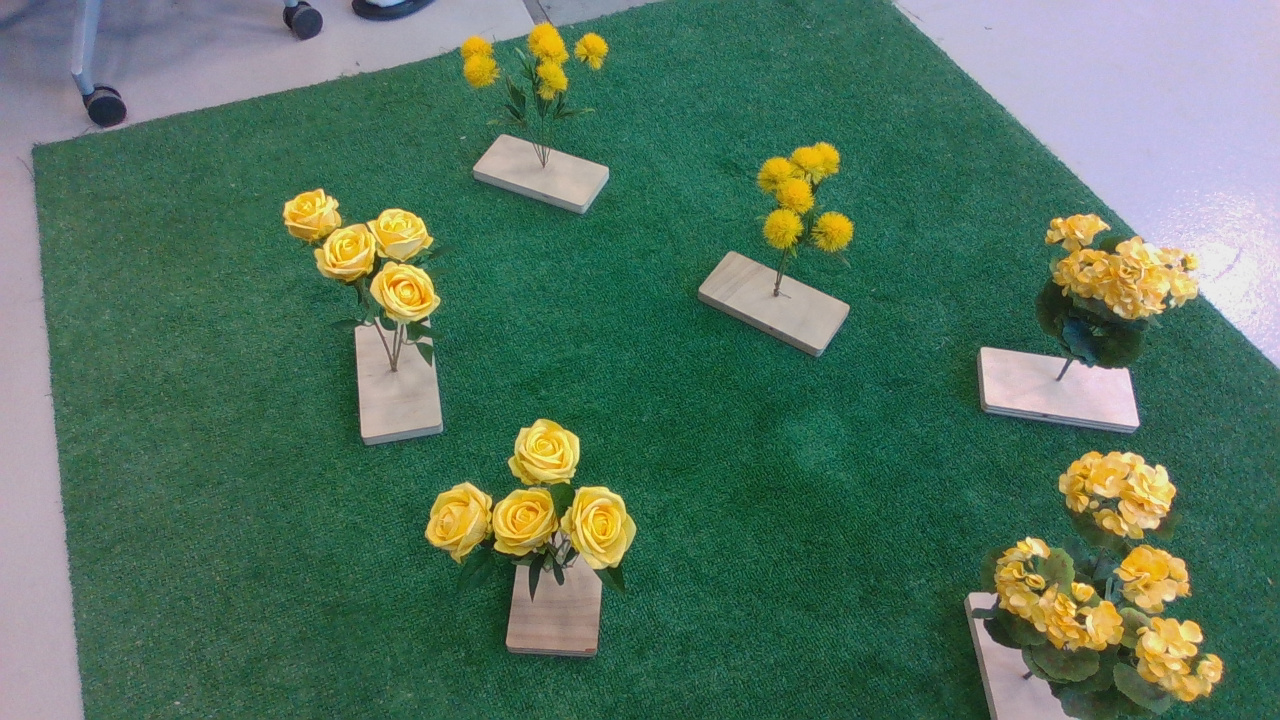dandelion: (454, 29, 638, 135), (748, 140, 879, 272)
geranium: (975, 444, 1235, 720), (1034, 215, 1216, 378)
rose: (424, 421, 664, 606), (278, 175, 459, 376)
